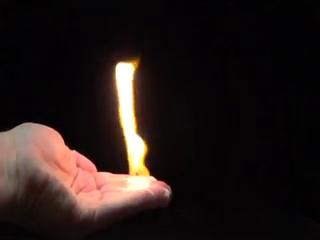Fire: (118, 63, 152, 200)
